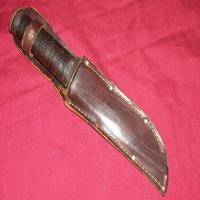knife: (8, 7, 177, 193)
